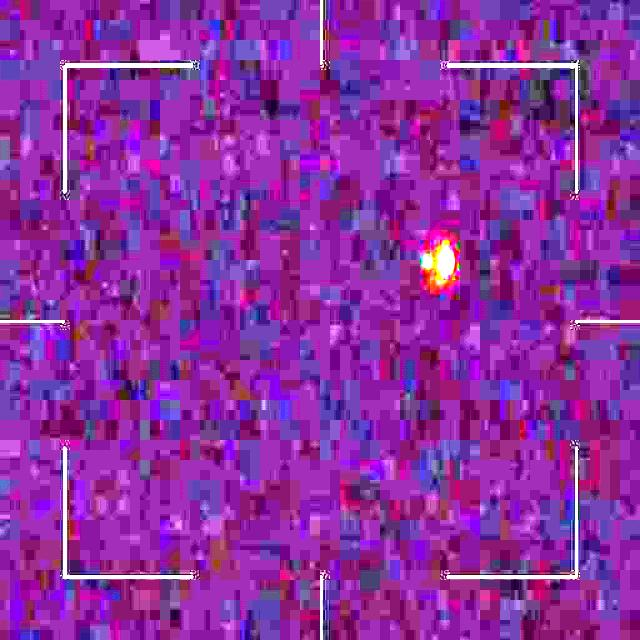bird: (424, 242, 456, 291)
